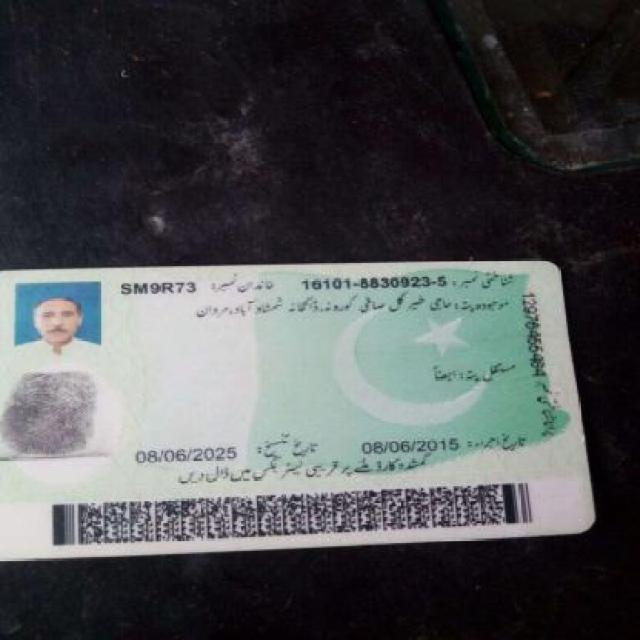Back: (5, 265, 608, 543)
